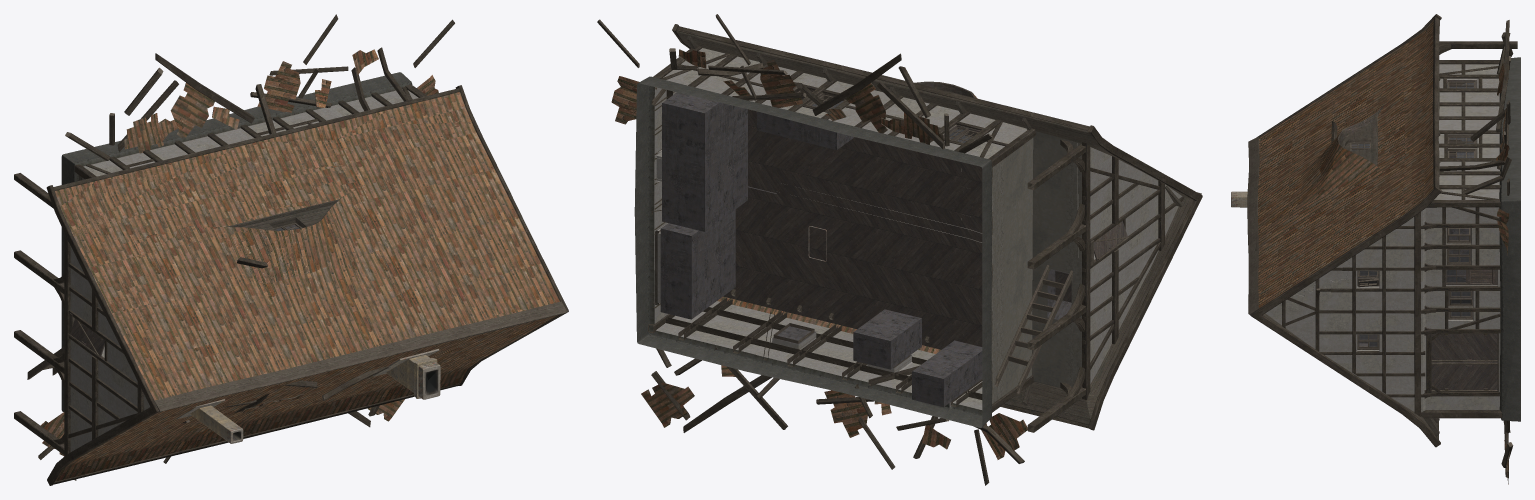
Rendered from hd_bld_EU_212_VHouse_3.glb.
3 renders of one model, left to right at view 1: azimuth 30°, elevation 25°; view 2: azimuth 150°, elevation 25°; view 3: azimuth 270°, elevation 25°, orthographic. The views are drawn at different scales.
Parts seen in each view (by area): view 1: set_0_group_4, set_0_group_5, set_0_group_8, set_0_group_1, set_0_group_3, set_0_group_9, set_0_group_2, set_0_group_6, set_0_group_7; view 2: set_0_group_1, set_0_group_3, set_0_group_8, set_0_group_4, set_0_group_7, set_0_group_9, set_0_group_6, set_0_group_0, set_0_group_5, set_0_group_2; view 3: set_0_group_1, set_0_group_5, set_0_group_9, set_0_group_4, set_0_group_6, set_0_group_8, set_0_group_2, set_0_group_3.
Part boxes in pixels (x1,y1,x2,y2): set_0_group_4: (46,140,363,418); set_0_group_5: (241,85,568,370); set_0_group_8: (52,53,317,360); set_0_group_1: (14,72,426,456); set_0_group_3: (47,340,369,485); set_0_group_9: (245,14,568,330); set_0_group_2: (247,267,568,434); set_0_group_6: (246,315,558,438); set_0_group_7: (38,380,317,481); set_0_group_1: (634,35,1139,432); set_0_group_3: (918,197,1195,430); set_0_group_8: (796,53,1183,260); set_0_group_4: (893,79,1202,260); set_0_group_7: (816,307,1128,485); set_0_group_9: (597,14,901,124); set_0_group_6: (641,226,866,432); set_0_group_0: (995,264,1072,393); set_0_group_5: (672,24,952,92); set_0_group_2: (717,186,856,333); set_0_group_1: (1285,41,1520,436); set_0_group_5: (1247,97,1440,314); set_0_group_9: (1248,98,1511,328); set_0_group_4: (1248,14,1440,222); set_0_group_6: (1250,310,1513,484); set_0_group_8: (1270,15,1513,201); set_0_group_2: (1248,229,1438,439); set_0_group_3: (1231,182,1270,222).
Bounding box in the file's own units: 19.11 × 17.38 × 12.39.
10 materials, 10 textured.
